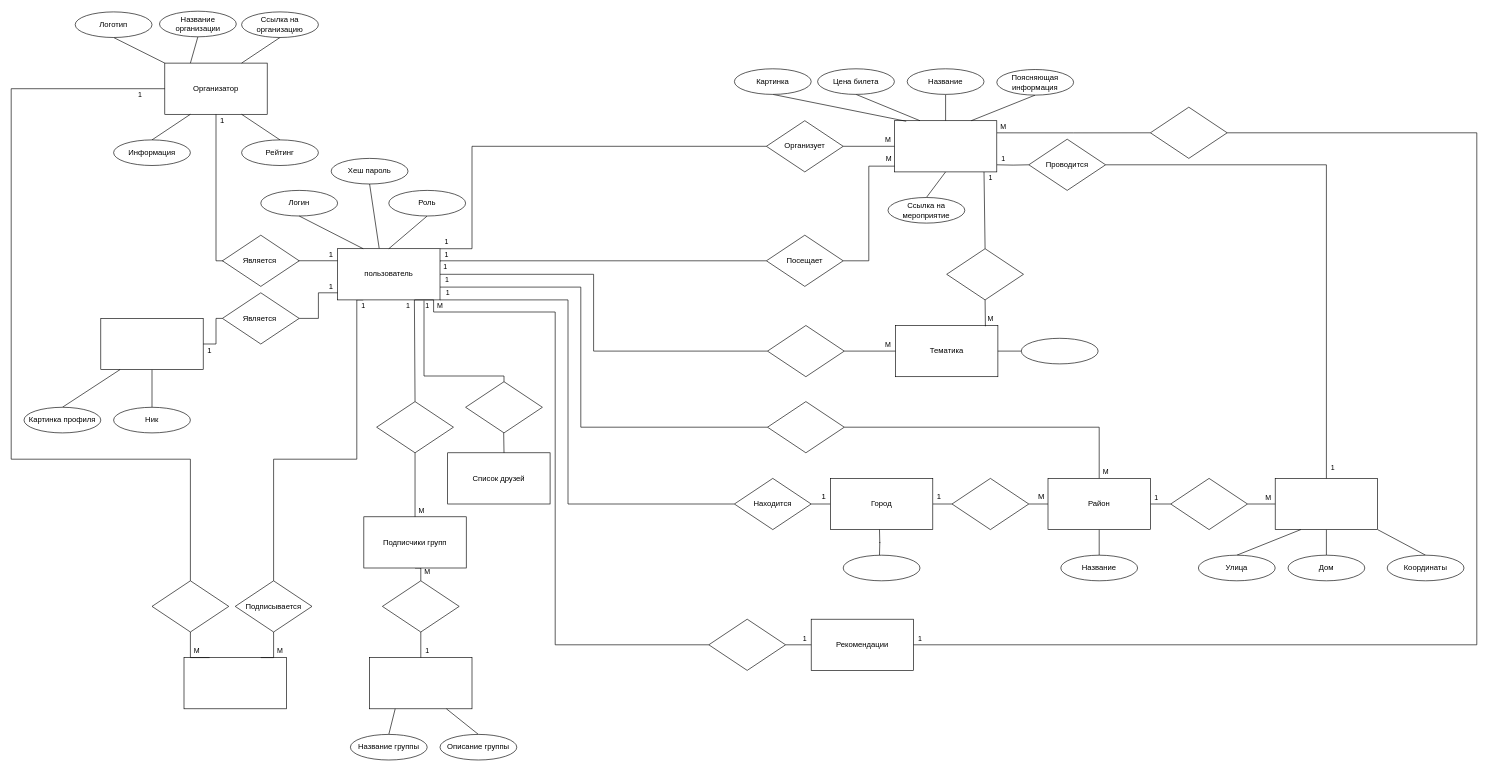
This 1489x771 diagram has some shape labels left out. The centre of each missing label's shape, as x and y in pixels:
"Адрес" belongs at [1326,504].
"Включается" belongs at [190,606].
"Входит" belongs at [1188,132].
"Выбирает" belongs at [805,351].
"Добавляет" belongs at [414,427].
"Дружит" belongs at [503,407].
"Имеет" belongs at [984,274].
"Мероприятие" belongs at [945,146].
"Название города" belongs at [881,568].
"Название тематики" belongs at [1059,351].
"Получает" belongs at [747,644].
"Посетитель" belongs at [151,344].
"Поясняется" belongs at [420,606].
"Предпочитает" belongs at [805,427].
"Содержит" belongs at [990,504].
"Состоит" belongs at [1208,504].
"Список групп" belongs at [420,683].
"Список подписок" belongs at [234,683].
